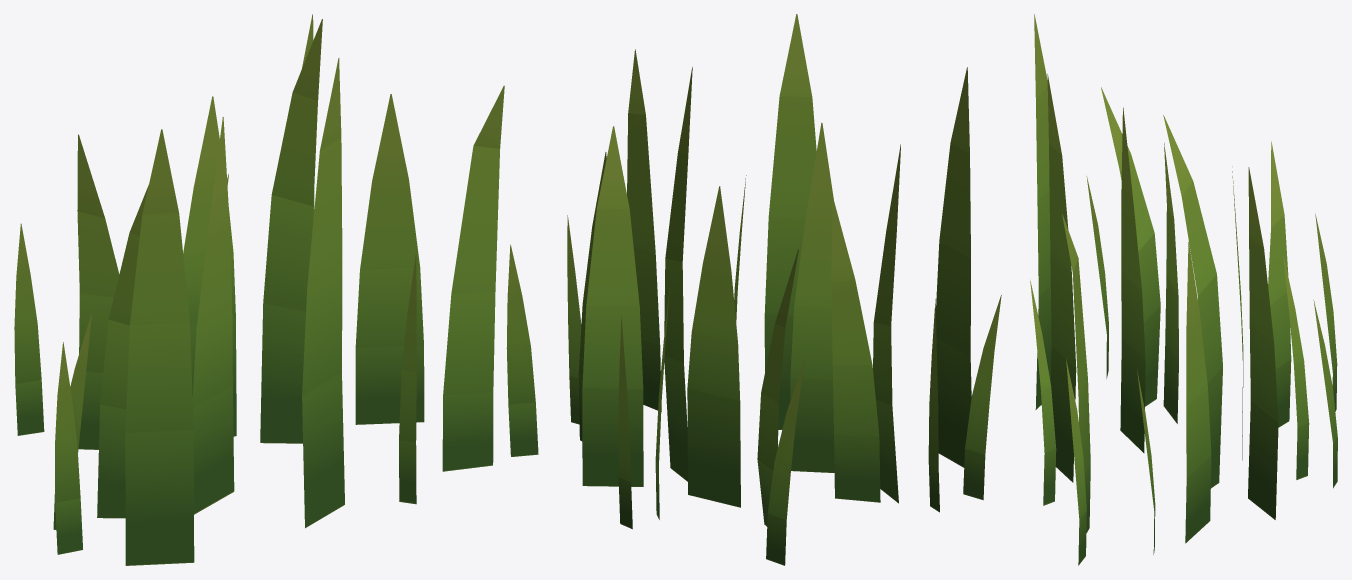
File: Grass_ForestProp_001.fbx
The picture shows the model from 3 angles, left to right: view 1: azimuth 30°, elevation 25°; view 2: azimuth 150°, elevation 25°; view 3: azimuth 270°, elevation 25°; orthographic projection. The views are drawn at different scales.
Visible parts, largest first — view 1: GrassBlades; view 2: GrassBlades; view 3: GrassBlades.
Boxes of the visible parts, x1,y1,x2,y2 form: GrassBlades: (14,14,538,565); GrassBlades: (567,14,1001,565); GrassBlades: (1030,14,1337,565).
Bounding box in the file's own units: 0.6888 × 1.05 × 0.9878.
